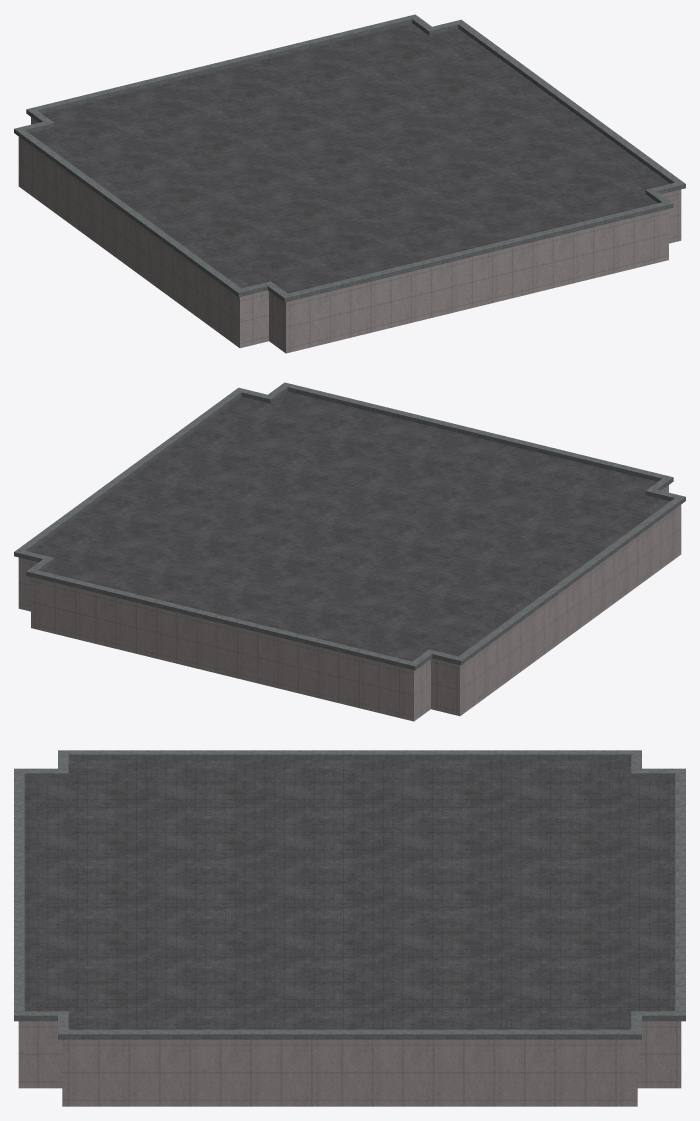
File: jctBld50E_top_roof.fbx
The picture shows the model from 3 angles, top to bottom: view 1: azimuth 30°, elevation 25°; view 2: azimuth 150°, elevation 25°; view 3: azimuth 270°, elevation 25°; orthographic projection. The views are drawn at different scales.
Parts seen in each view (by area): view 1: jctBld50E_top_roof; view 2: jctBld50E_top_roof; view 3: jctBld50E_top_roof.
Boxes of the visible parts, bbox=[...] form: jctBld50E_top_roof: bbox=[14, 14, 685, 353]; jctBld50E_top_roof: bbox=[14, 382, 685, 721]; jctBld50E_top_roof: bbox=[14, 750, 685, 1106].
Bounding box in the file's own units: 4420 × 540 × 4420.
